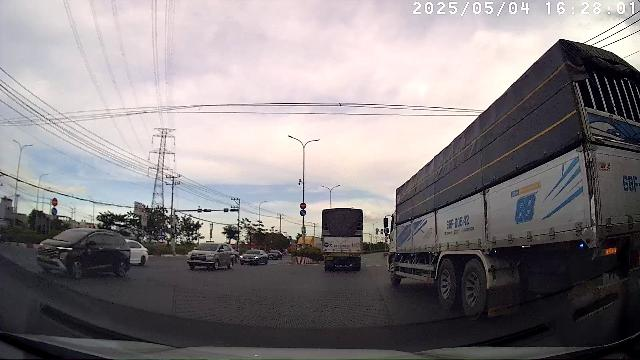102-cam-di-nguoc-chieu: (299, 202, 307, 209)
302a-huong-phai-di-vong-chuong-ngai-vat-1: (299, 209, 307, 216)
